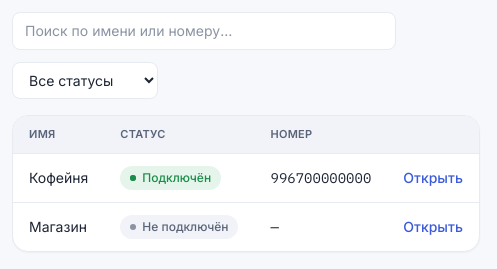
Test: filters by name via the search input
This screenshot has width=497, height=269.
Type "кофе" into the search field named "Поиск ботов" at (204, 31), box [12,12,396,50]
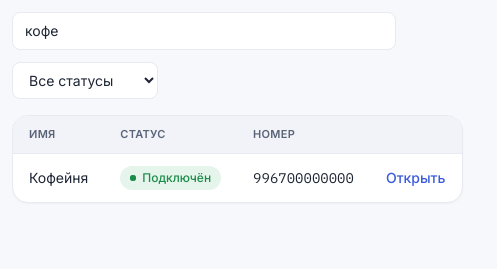
Check: the text "Кофейня" is shown, box [13,153,104,202]
Check: the text "Магазин" is gone
